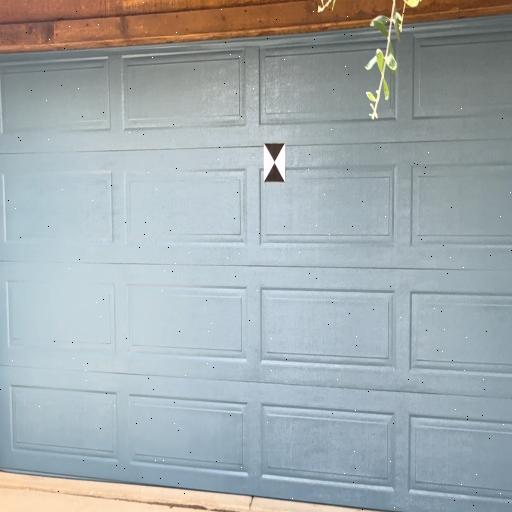target: (264, 143, 286, 182)
